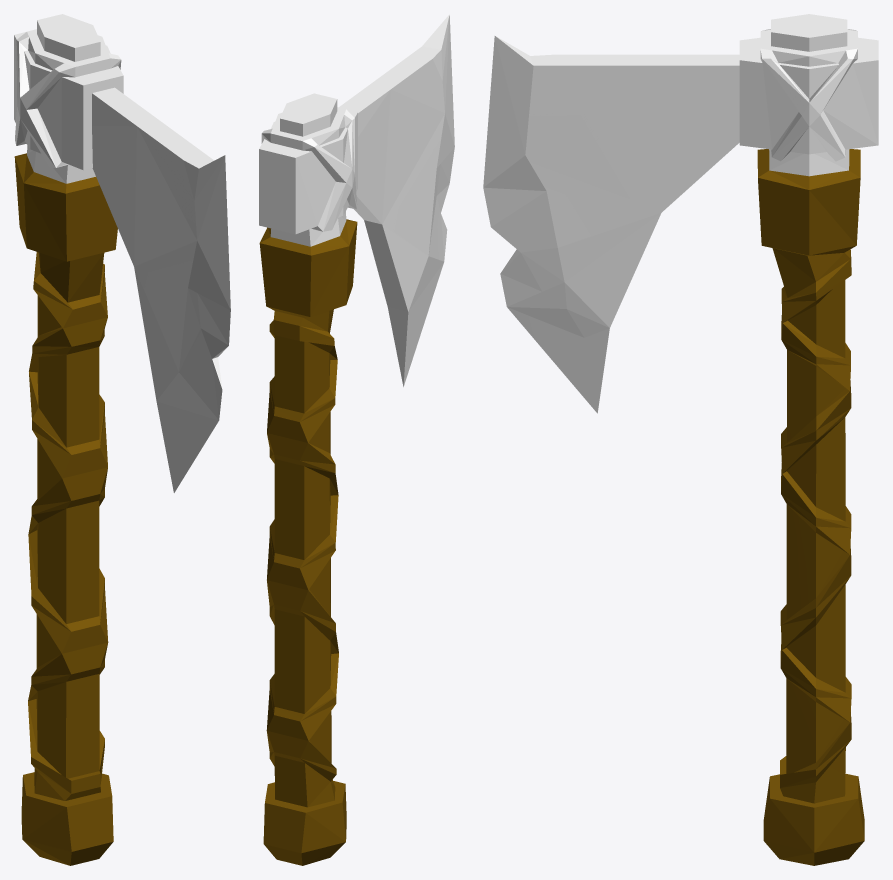
File: Axe_01.fbx
3 renders of one model, left to right at view 1: azimuth 30°, elevation 25°; view 2: azimuth 150°, elevation 25°; view 3: azimuth 270°, elevation 25°, orthographic. The views are drawn at different scales.
Visible parts, largest first — view 1: SM_Wep_Axe_01; view 2: SM_Wep_Axe_01; view 3: SM_Wep_Axe_01.
Part boxes in pixels (x1,y1,x2,y2): SM_Wep_Axe_01: (14, 14, 230, 865); SM_Wep_Axe_01: (259, 14, 454, 865); SM_Wep_Axe_01: (483, 14, 878, 865).
Size of the model in its own units: 8.82 by 71.17 by 30.9.
